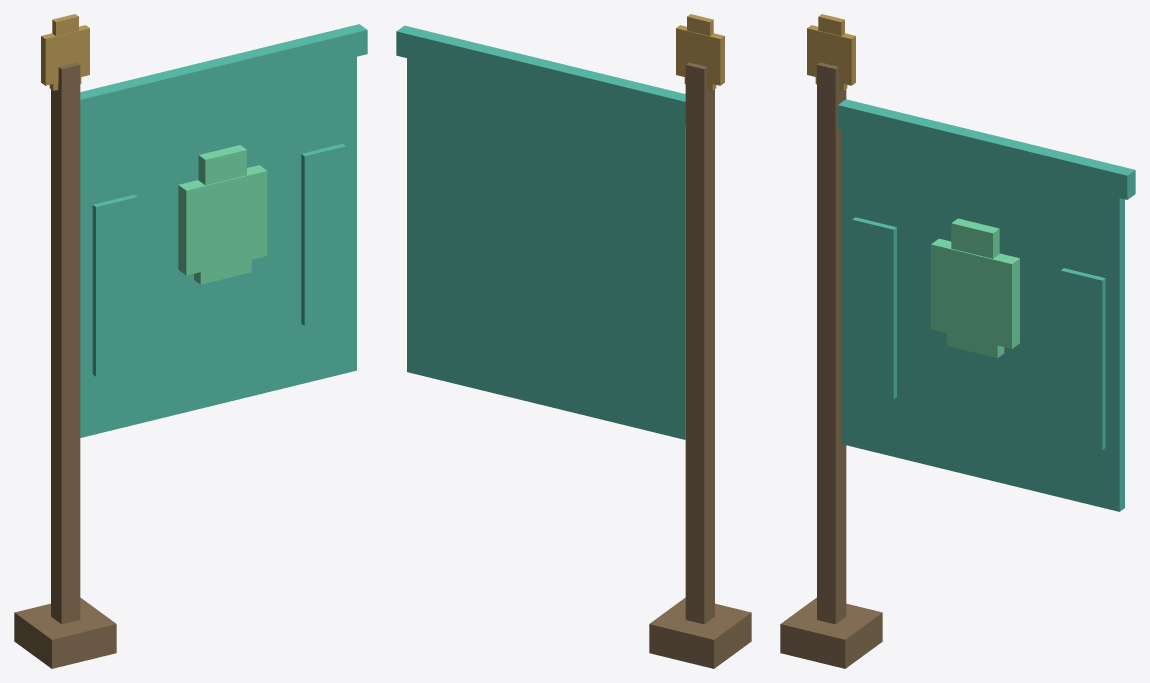
File: cosmetic_banner_aurora_bunting.glb
3 renders of one model, left to right at view 1: azimuth 30°, elevation 25°; view 2: azimuth 150°, elevation 25°; view 3: azimuth 330°, elevation 25°, orthographic.
Visible parts, largest first — view 1: CosmeticArt_cloth, CosmeticArt_pole, CosmeticArt_crest, CosmeticArt_finial; view 2: CosmeticArt_cloth, CosmeticArt_pole, CosmeticArt_finial; view 3: CosmeticArt_cloth, CosmeticArt_pole, CosmeticArt_crest, CosmeticArt_finial.
Boxes of the visible parts, bbox=[...] form: CosmeticArt_cloth: bbox=[80, 24, 367, 437]; CosmeticArt_pole: bbox=[14, 62, 116, 668]; CosmeticArt_crest: bbox=[178, 145, 267, 284]; CosmeticArt_finial: bbox=[41, 14, 89, 90]; CosmeticArt_cloth: bbox=[396, 25, 685, 439]; CosmeticArt_pole: bbox=[649, 62, 751, 668]; CosmeticArt_finial: bbox=[676, 14, 724, 90]; CosmeticArt_cloth: bbox=[838, 99, 1135, 511]; CosmeticArt_pole: bbox=[780, 62, 882, 668]; CosmeticArt_crest: bbox=[931, 218, 1019, 357]; CosmeticArt_finial: bbox=[807, 14, 855, 90].
Bounding box in the file's own units: 1.43 × 2.6 × 0.28.
